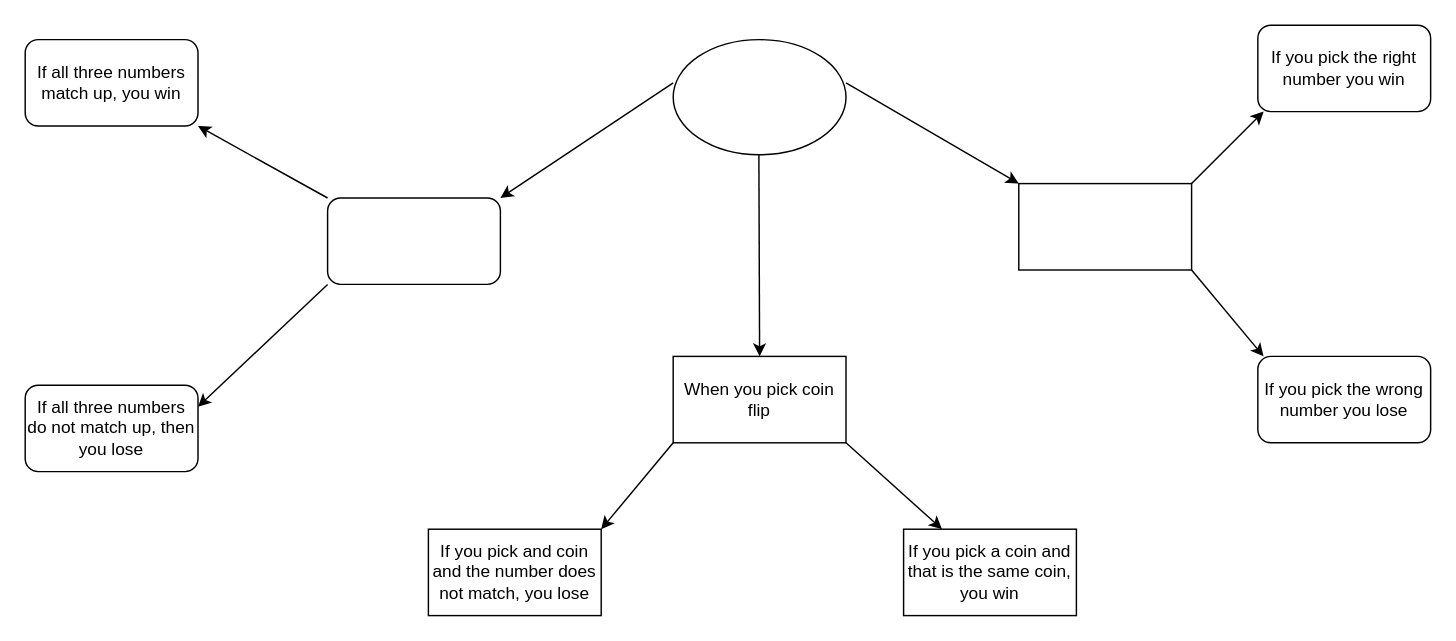
Image size: 1456x641. Some labels were removed from this diagram. The shapes that lost their labels are listed below. From the top down, each one's box as (x1, y1, x2, y2) in pixels, then its label:
(672, 38, 846, 155): Main Menu
(326, 197, 500, 284): When you pick slots
(1017, 182, 1192, 270): When you pick roulette
